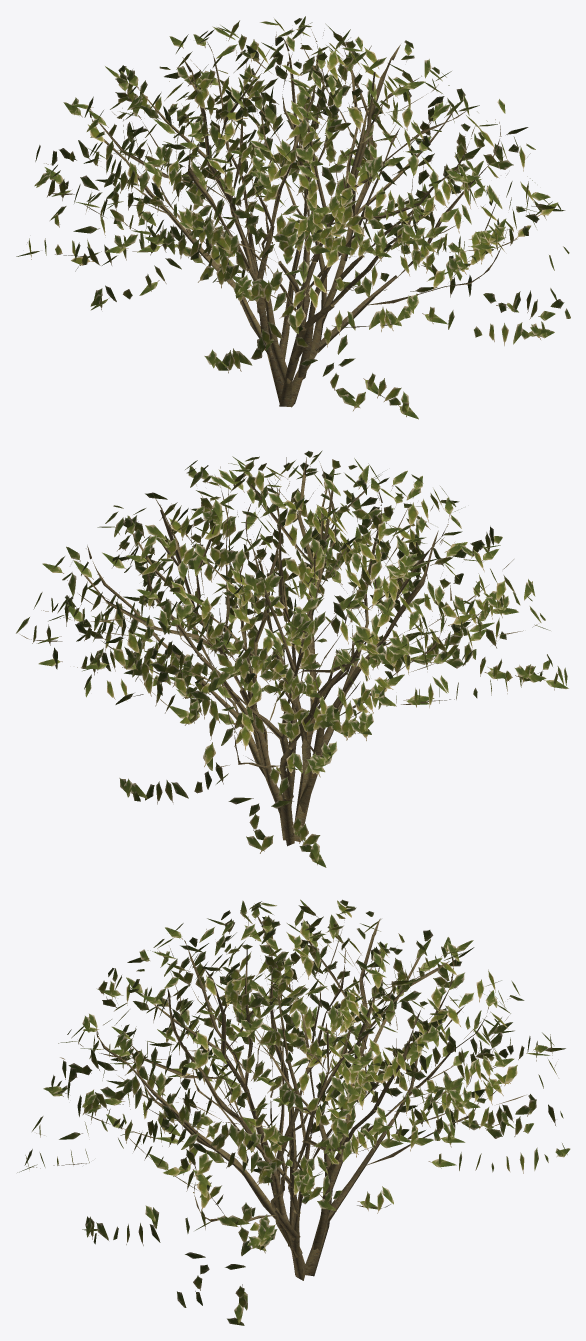
Rendered from euonymus_shrub_c_low.glb.
3 views of the same model, one above another, from view 1: azimuth 30°, elevation 25°; view 2: azimuth 150°, elevation 25°; view 3: azimuth 270°, elevation 25° (orthographic). The views are drawn at different scales.
Parts seen in each view (by area): view 1: EuonymusShrub_C_LowPoly; view 2: EuonymusShrub_C_LowPoly; view 3: EuonymusShrub_C_LowPoly.
Boxes of the visible parts, x1,y1,x2,y2 form: EuonymusShrub_C_LowPoly: (16, 16, 570, 419); EuonymusShrub_C_LowPoly: (16, 450, 568, 867); EuonymusShrub_C_LowPoly: (17, 899, 570, 1325).
Size of the model in its own units: 2.07 by 1.46 by 2.09.
3 materials, 3 textured.
